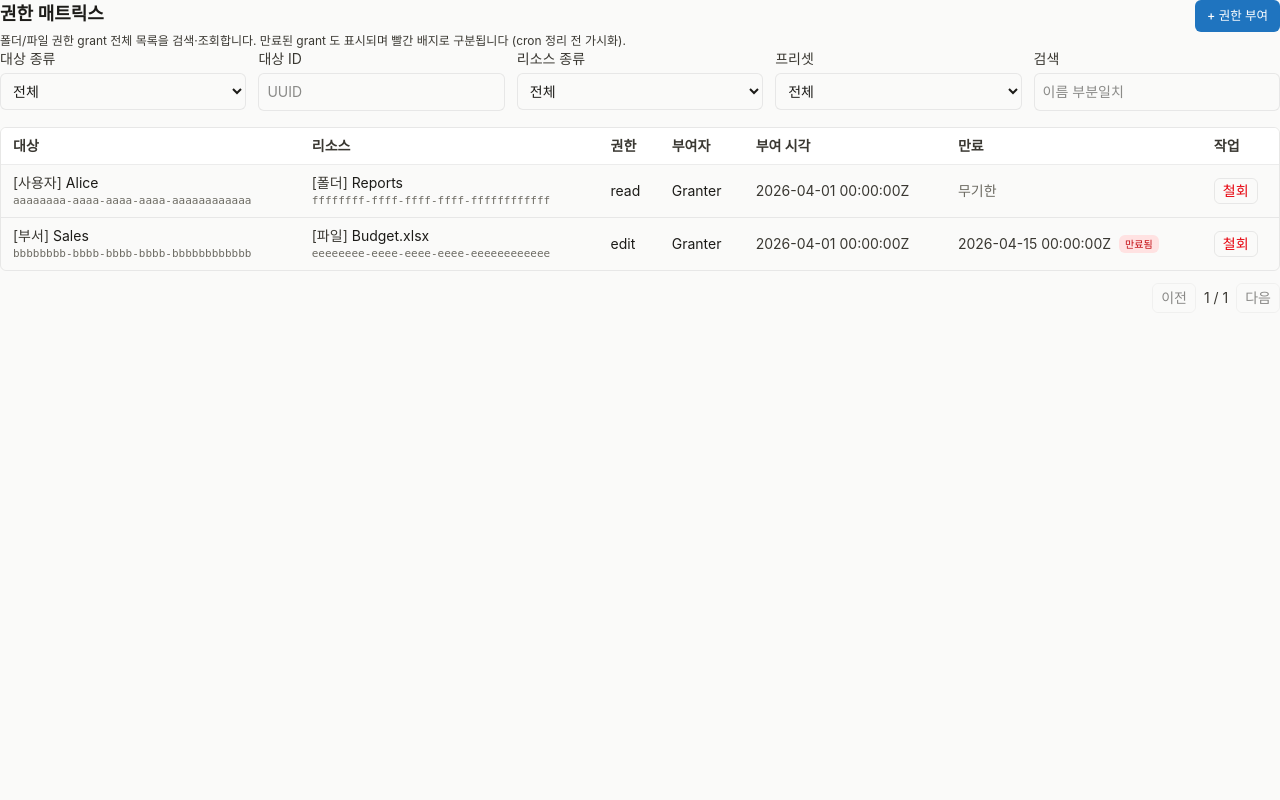
Scenario: AdminPermissionsPage — 렌더 + 필터 › 철회 버튼 → ConfirmDialog 노출 + 확인 시 mutate(rowId) + 다이얼로그 닫힘
Click the button "철회" in the row of "사용자" at (1236, 191), box x1=1214 y1=178 x2=1258 y2=204
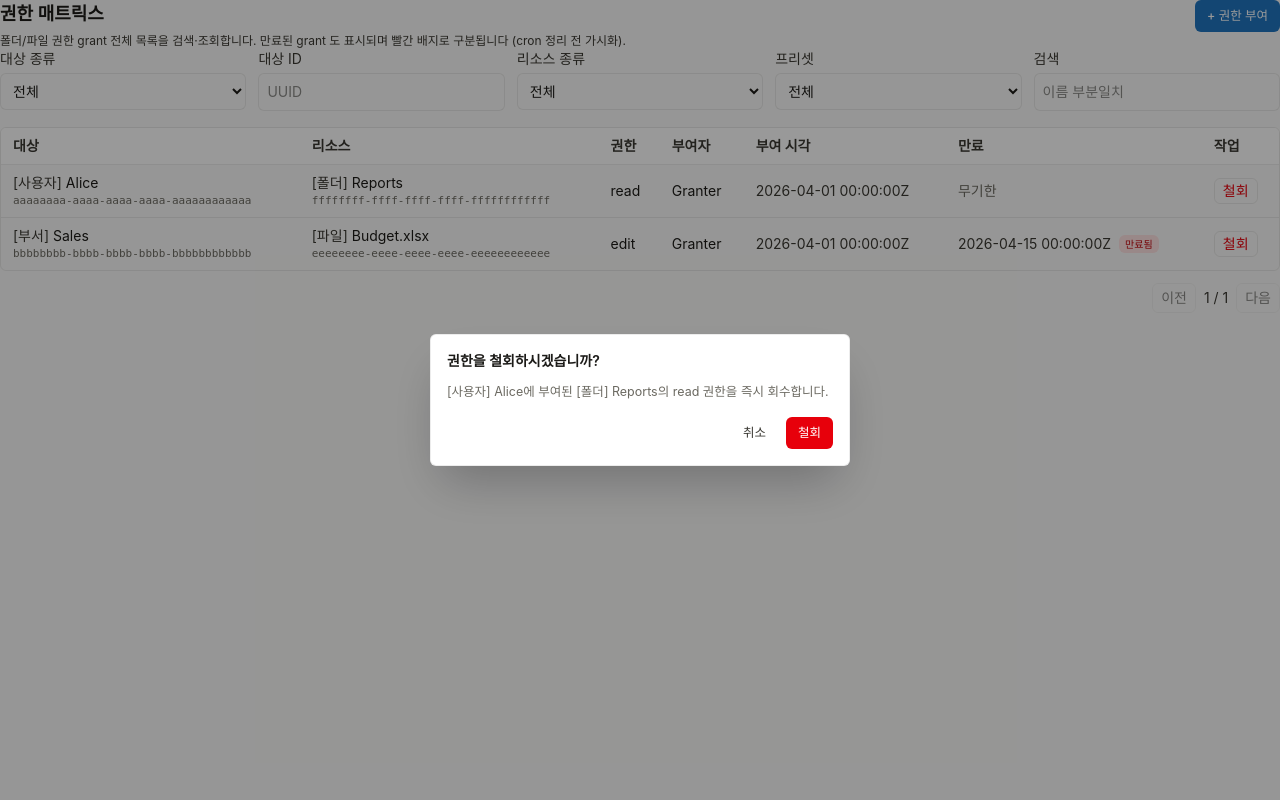
Expected: the dialog "권한을 철회" is shown
Expected: the text "즉시 회수합니다" is shown, x1=699 y1=384 x2=828 y2=399
Click the button "철회" at (810, 433), box x1=786 y1=417 x2=833 y2=449
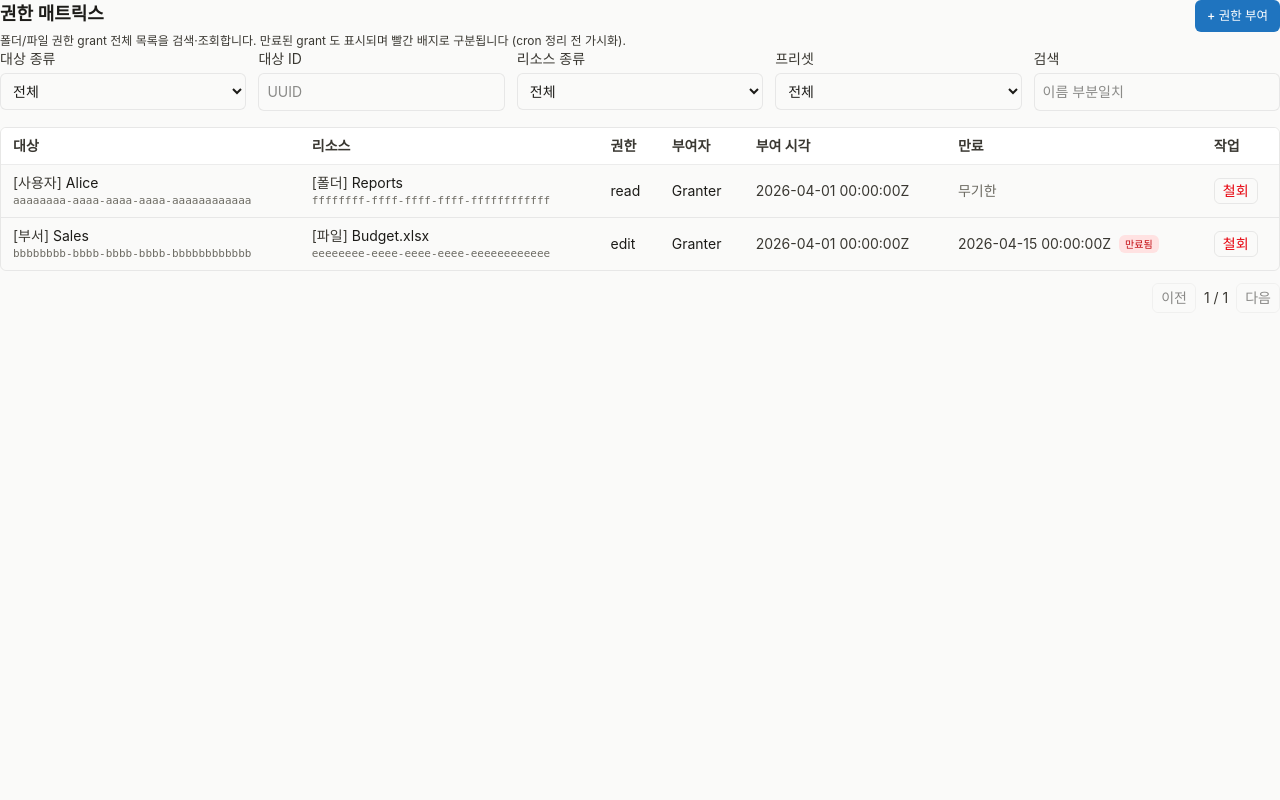
Expected: the heading "권한을 철회" is gone
